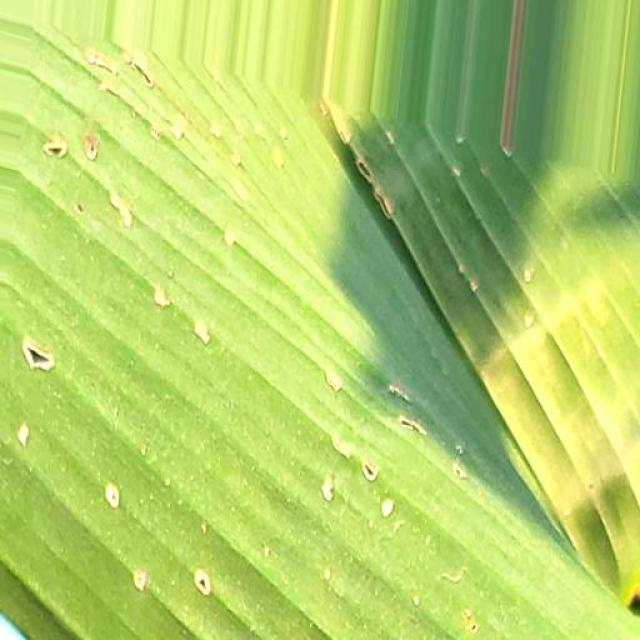Black_rot: (16, 61, 622, 600)
